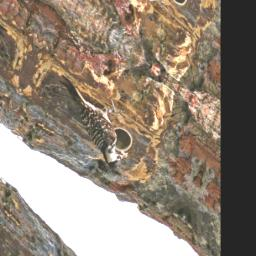Woodpecker: (46, 63, 139, 175)
